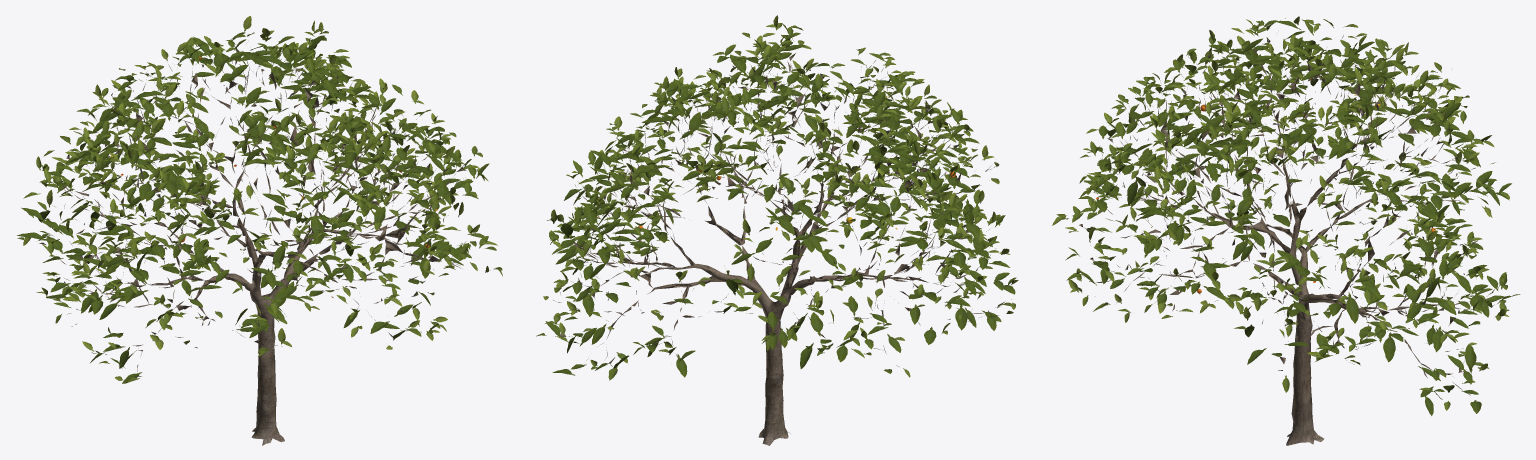
File: sour_orange_optimised.glb
3 views of the same model, side by side, from view 1: azimuth 30°, elevation 25°; view 2: azimuth 150°, elevation 25°; view 3: azimuth 270°, elevation 25° (orthographic). The views are drawn at different scales.
Size of the model in its own units: 4.98 by 4.45 by 4.75.
Materials: 8 (8 with a texture image).
